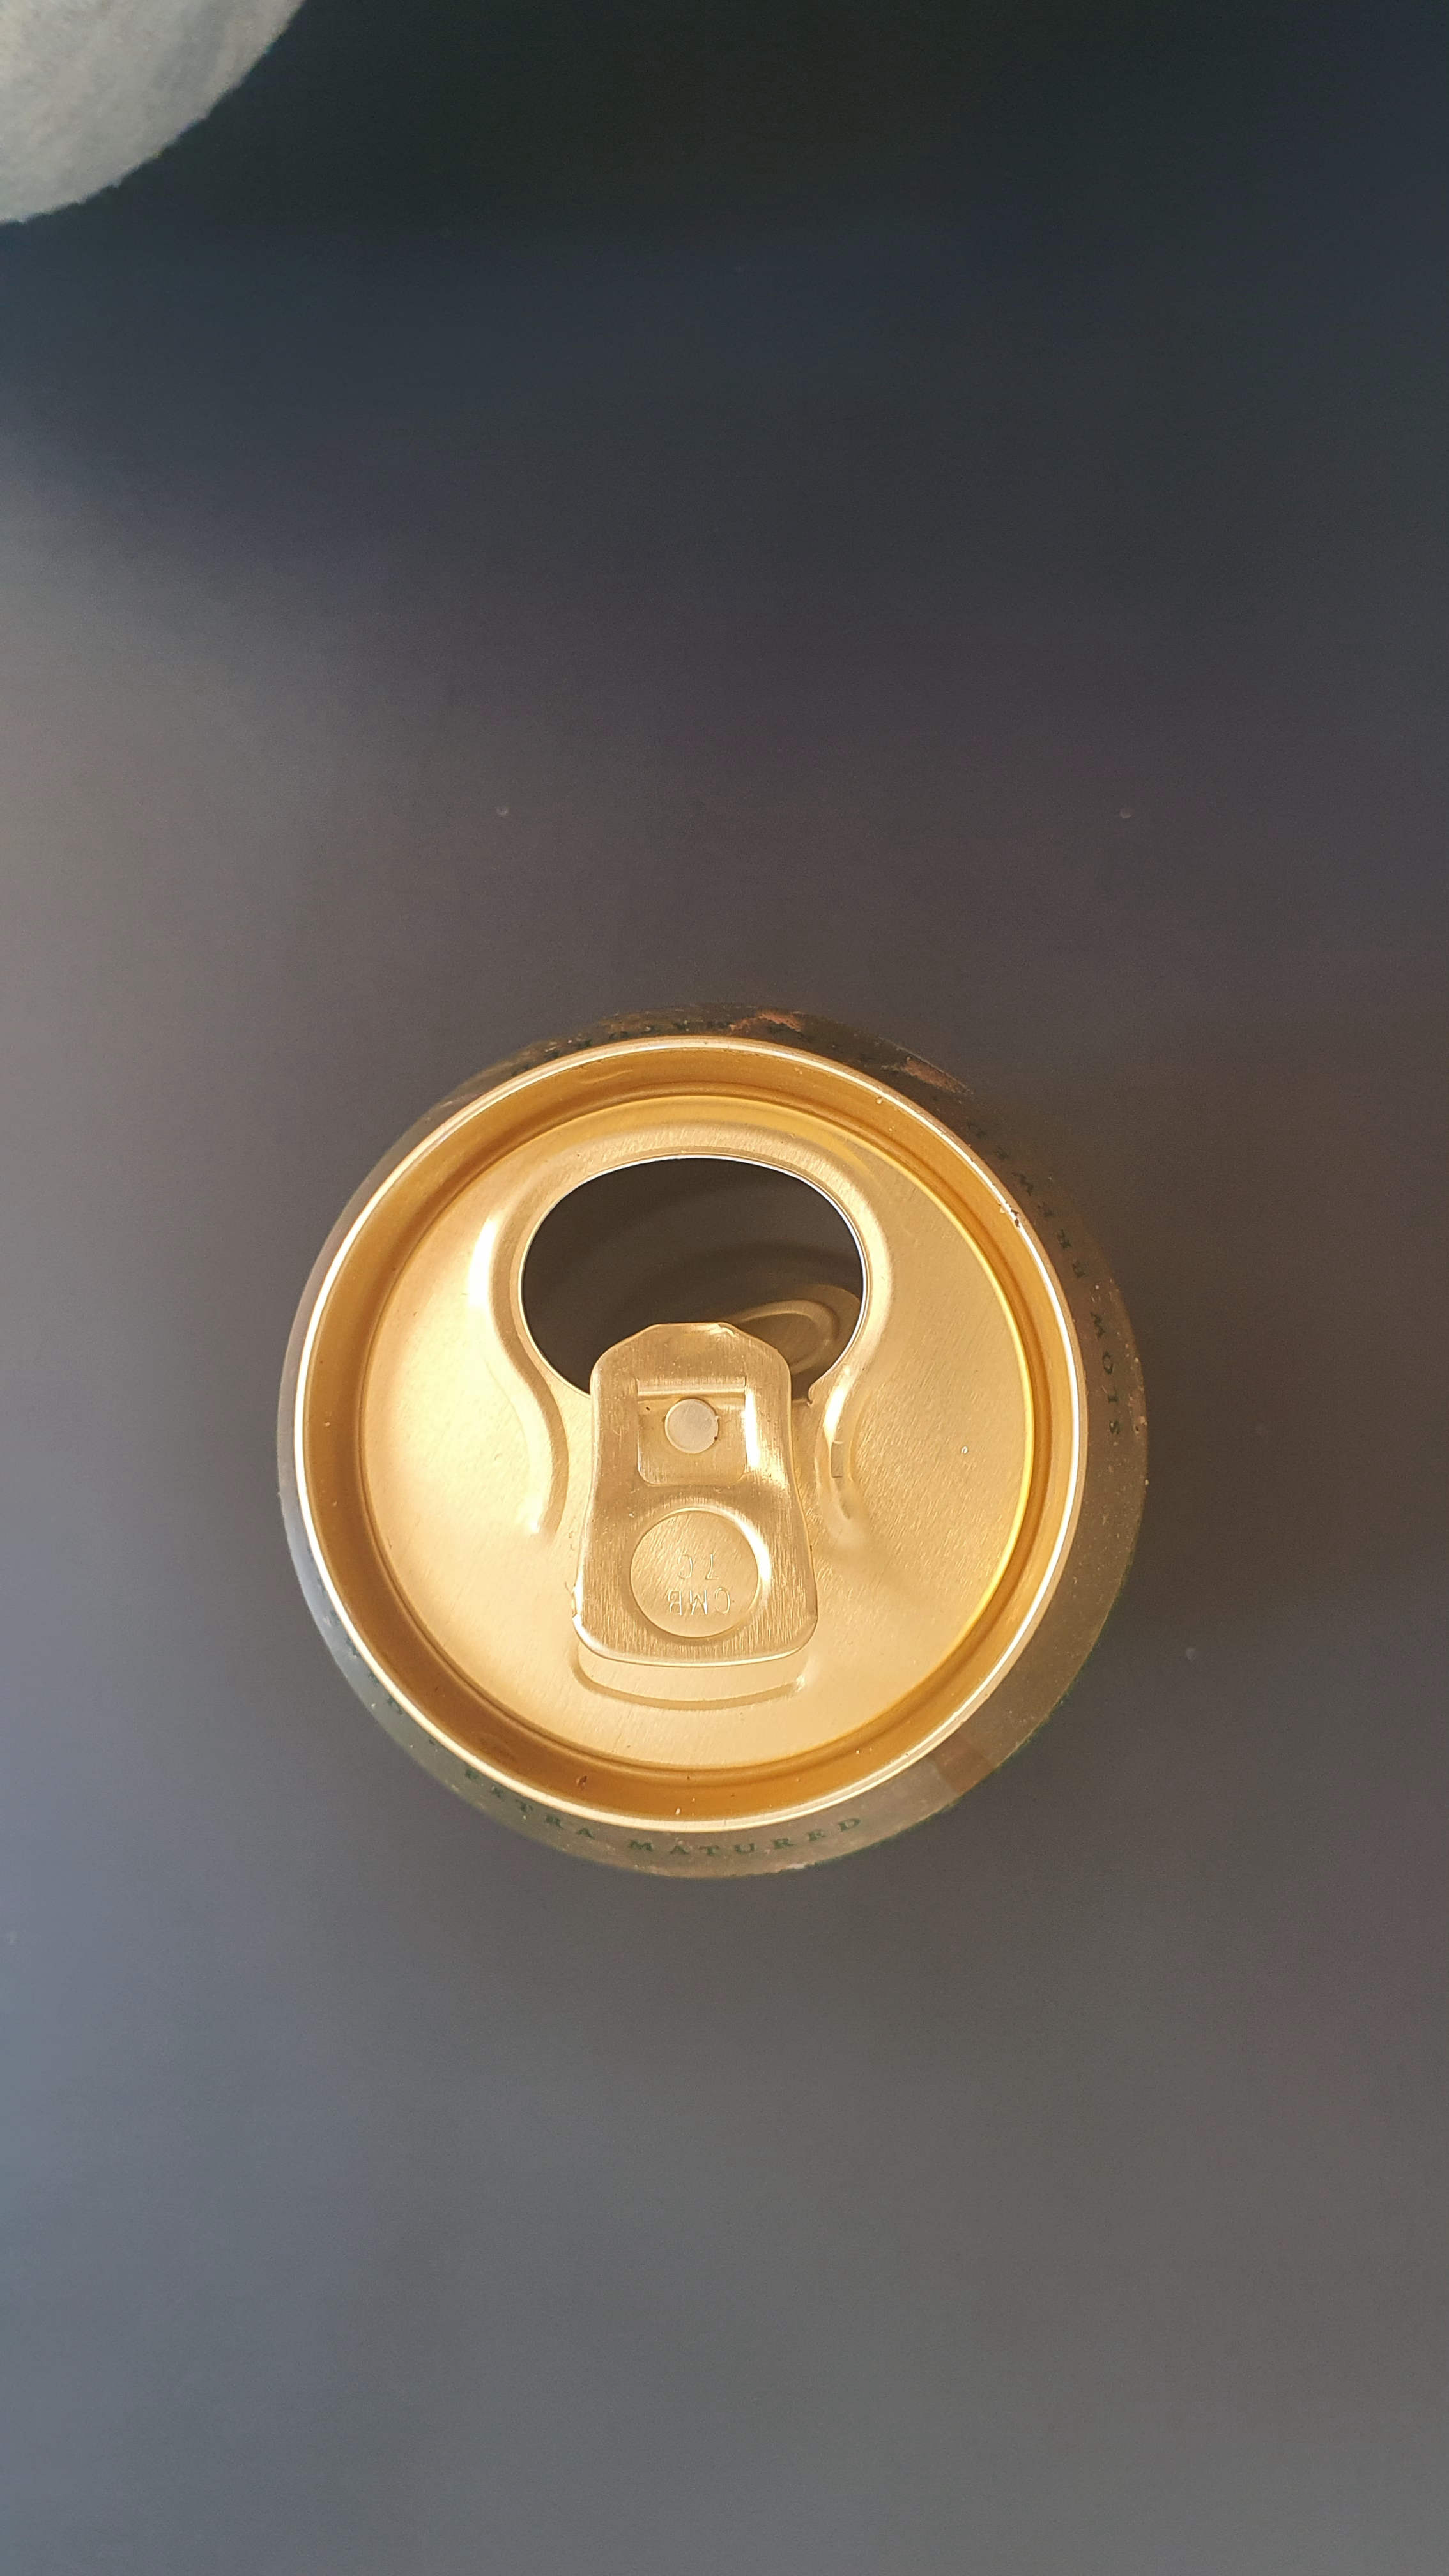metal: (241, 947, 1196, 1932)
